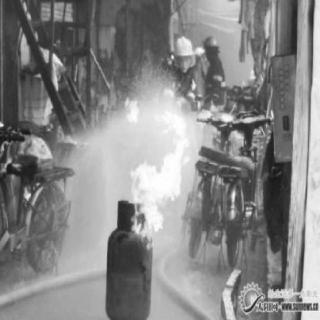Fire: (118, 93, 142, 123)
other: (165, 26, 213, 62), (186, 76, 198, 97)
